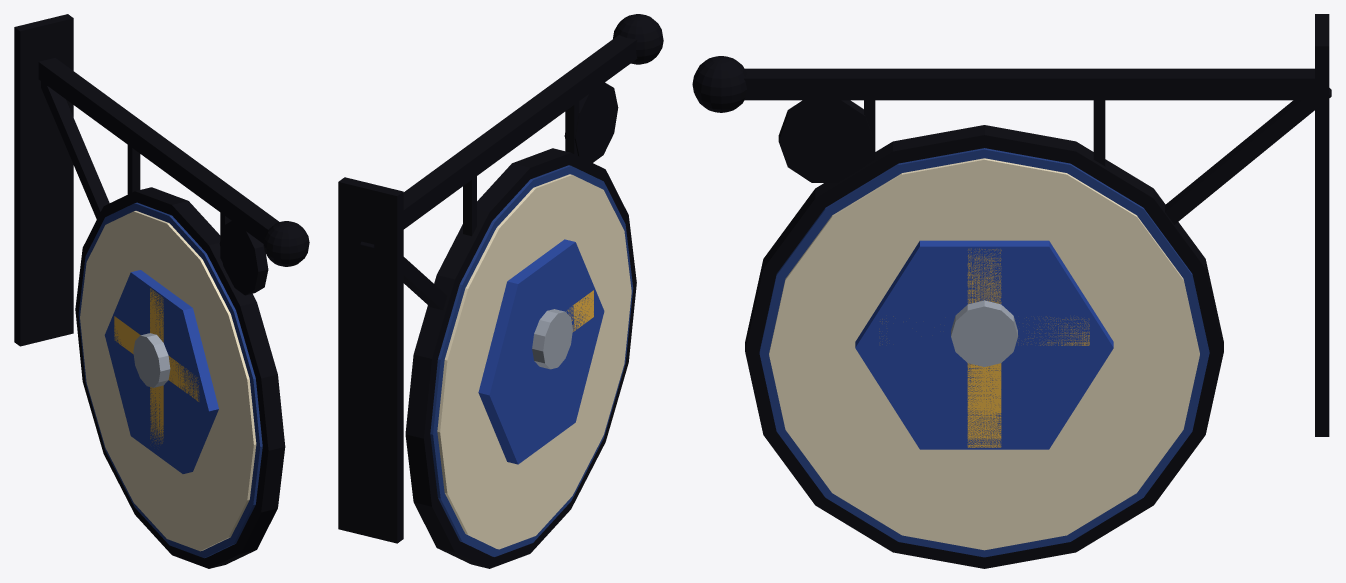
The model's file is shop_armor_sign.gltf.
3 renders of one model, left to right at view 1: azimuth 30°, elevation 25°; view 2: azimuth 150°, elevation 25°; view 3: azimuth 270°, elevation 25°, orthographic. The views are drawn at different scales.
Parts seen in each view (by area): view 1: ShopArmorSignShopIron, ShopArmorSignShopCream, ShopArmorSignShopBlue, ShopArmorSignShopCloth, ShopArmorSignShopGold, ShopArmorSignShopSteel; view 2: ShopArmorSignShopIron, ShopArmorSignShopCream, ShopArmorSignShopBlue, ShopArmorSignShopCloth, ShopArmorSignShopSteel, ShopArmorSignShopGold; view 3: ShopArmorSignShopCream, ShopArmorSignShopIron, ShopArmorSignShopBlue, ShopArmorSignShopCloth, ShopArmorSignShopGold, ShopArmorSignShopSteel.
Part boxes in pixels (x1,y1,x2,y2): ShopArmorSignShopIron: (14, 14, 309, 568); ShopArmorSignShopCream: (80, 211, 256, 551); ShopArmorSignShopBlue: (104, 270, 218, 473); ShopArmorSignShopCloth: (78, 202, 262, 558); ShopArmorSignShopGold: (114, 288, 199, 444); ShopArmorSignShopSteel: (133, 333, 170, 387); ShopArmorSignShopIron: (338, 14, 663, 568); ShopArmorSignShopCream: (437, 174, 631, 549); ShopArmorSignShopBlue: (478, 239, 604, 464); ShopArmorSignShopCloth: (430, 165, 633, 556); ShopArmorSignShopSteel: (532, 309, 572, 369); ShopArmorSignShopGold: (566, 290, 593, 331); ShopArmorSignShopCream: (769, 158, 1199, 550); ShopArmorSignShopIron: (692, 14, 1331, 568); ShopArmorSignShopBlue: (855, 240, 1113, 449); ShopArmorSignShopCloth: (759, 148, 1209, 557); ShopArmorSignShopGold: (879, 248, 1089, 447); ShopArmorSignShopSteel: (951, 300, 1017, 366).
Size of the model in its own units: 0.2 by 1.23 by 1.33.
